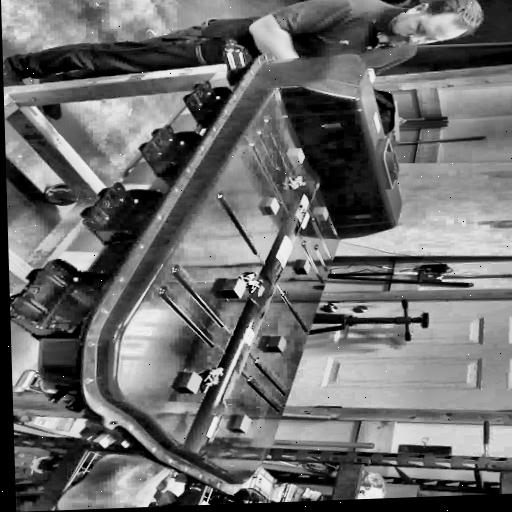b_casing: (79, 53, 403, 498)
